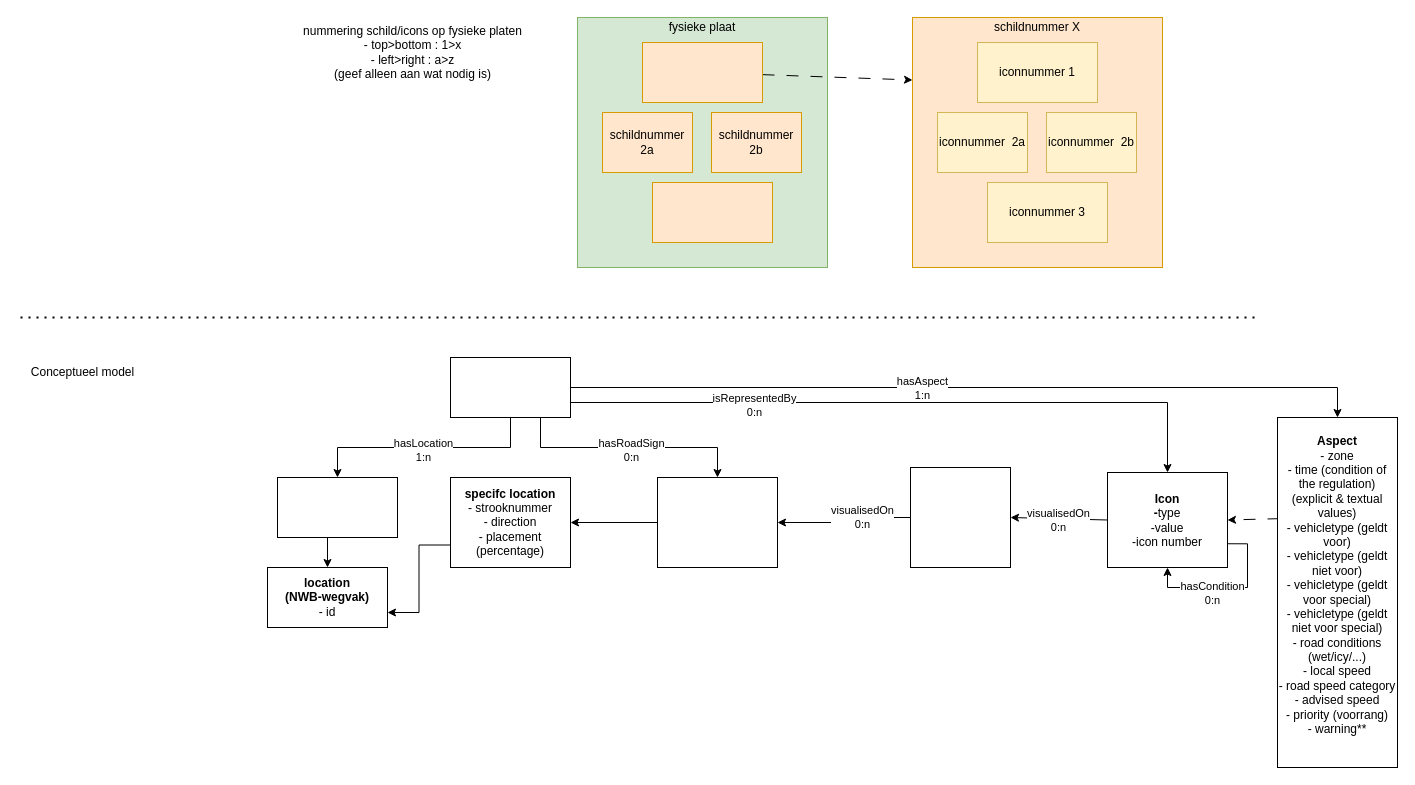
The diagram is 1415 pixels wide and 785 high, and some of its shapes have lost their labels. The shapes that lost their labels are listed below. From the top down, each one's centre as x and y in pixels, then its label:
At point 702,72: "schildnummer 1".
At point 712,212: "schildnummer 3".
At point 510,387: "TrafficRegulation (Verkeersmaatregel) - start/end date".
At point 337,507: "hasLocation - strooknummer - direction - werkingslengte".
At point 717,522: "RoadSign (Fysieke plaat) - information** - coordinates".
At point 960,517: "Shield -shieldnumber - colour".
